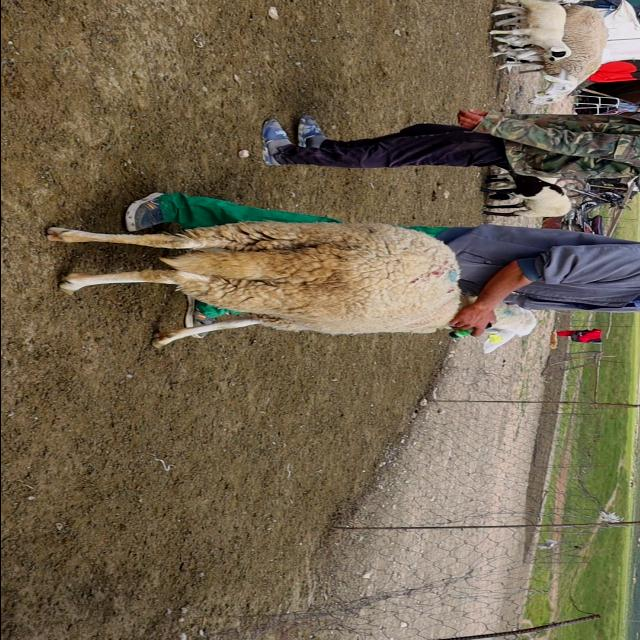Score_5: (46, 221, 460, 348)
